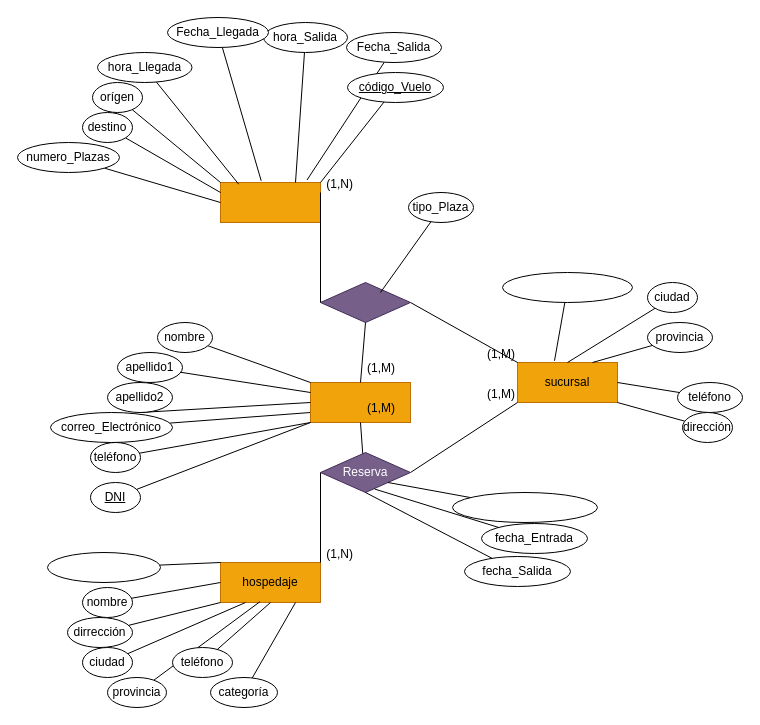
Some shapes in this 760 by 725 pixel diagram are drawn without their labels. The centre of each missing label's shape, as x and y in pixels:
"cliente" belongs at [360,402].
"Contrata" belongs at [365,302].
"código_Hospedaje" belongs at [103,567].
"código_Sucursal" belongs at [567,287].
"régimen_Hospedaje" belongs at [525,507].
"vuelo" belongs at [270,202].
